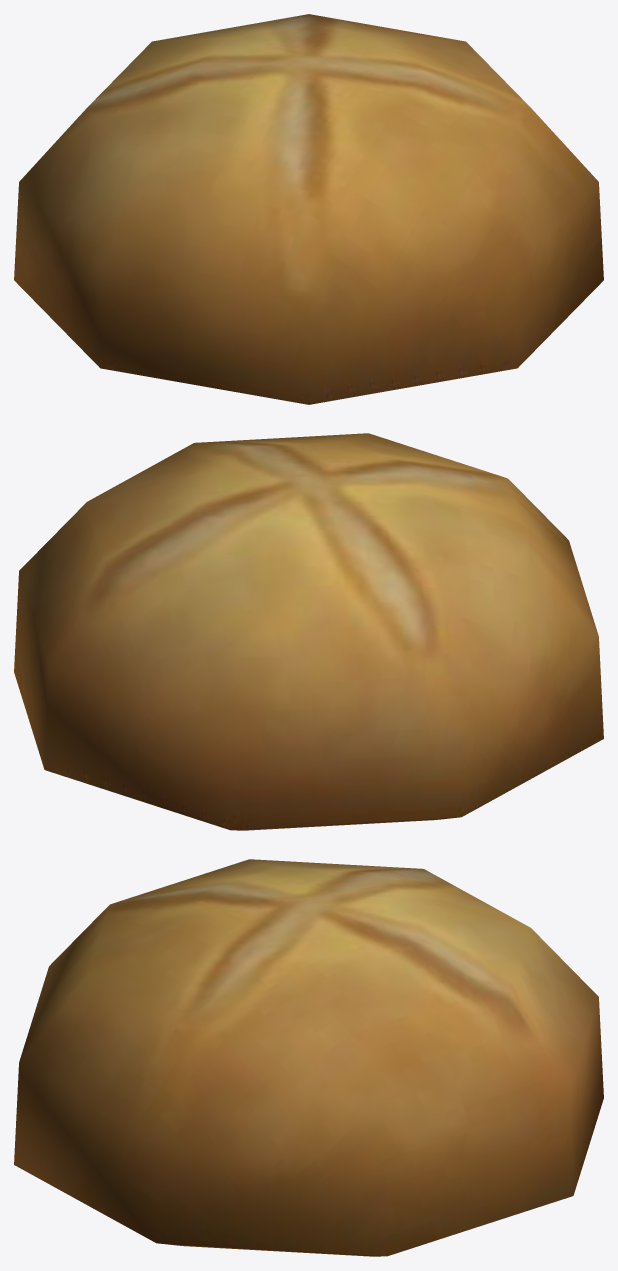
File: SM_loaf_00.gltf
The picture shows the model from 3 angles, top to bottom: view 1: azimuth 30°, elevation 25°; view 2: azimuth 150°, elevation 25°; view 3: azimuth 270°, elevation 25°; orthographic projection. The views are drawn at different scales.
Parts seen in each view (by area): view 1: SM_loaf_00; view 2: SM_loaf_00; view 3: SM_loaf_00.
Boxes of the visible parts, x1,y1,x2,y2 form: SM_loaf_00: [14, 14, 603, 404]; SM_loaf_00: [14, 433, 603, 830]; SM_loaf_00: [14, 859, 603, 1256].
Size of the model in its own units: 0.4204 by 0.2198 by 0.4204.
1 material, 1 textured.
